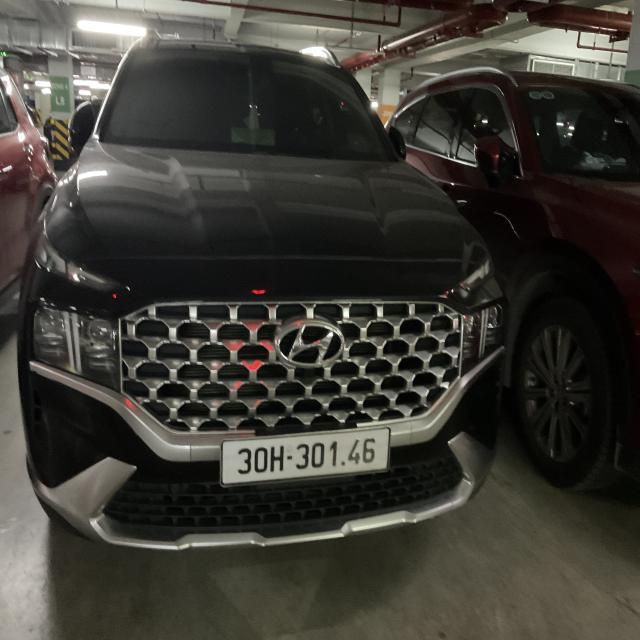license: (219, 426, 391, 486)
